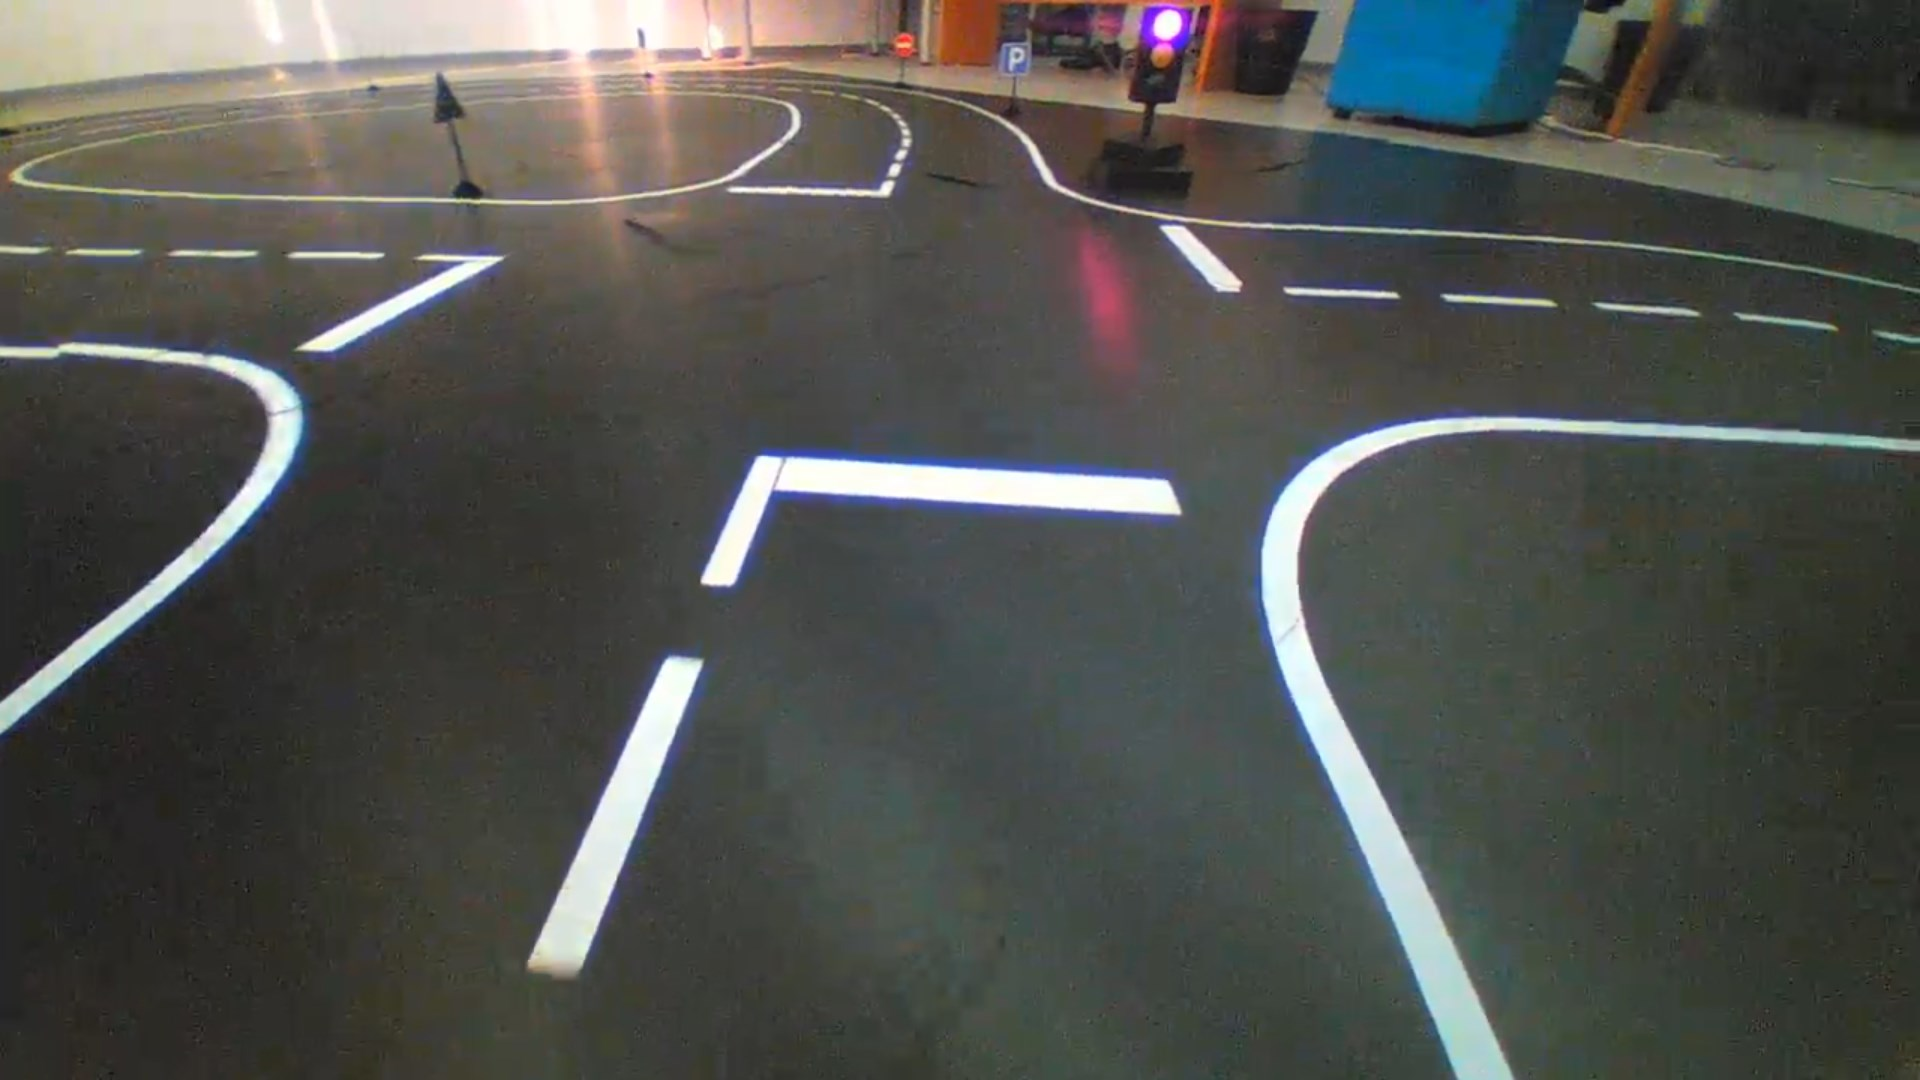trafficlight: (1126, 7, 1193, 104)
